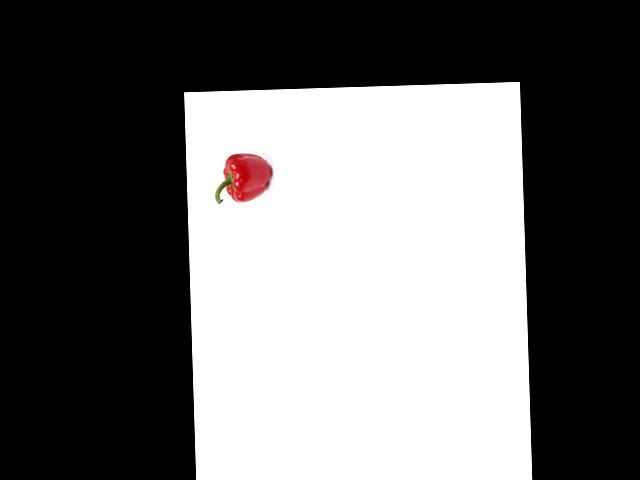bell_pepper: (213, 148, 273, 206)
